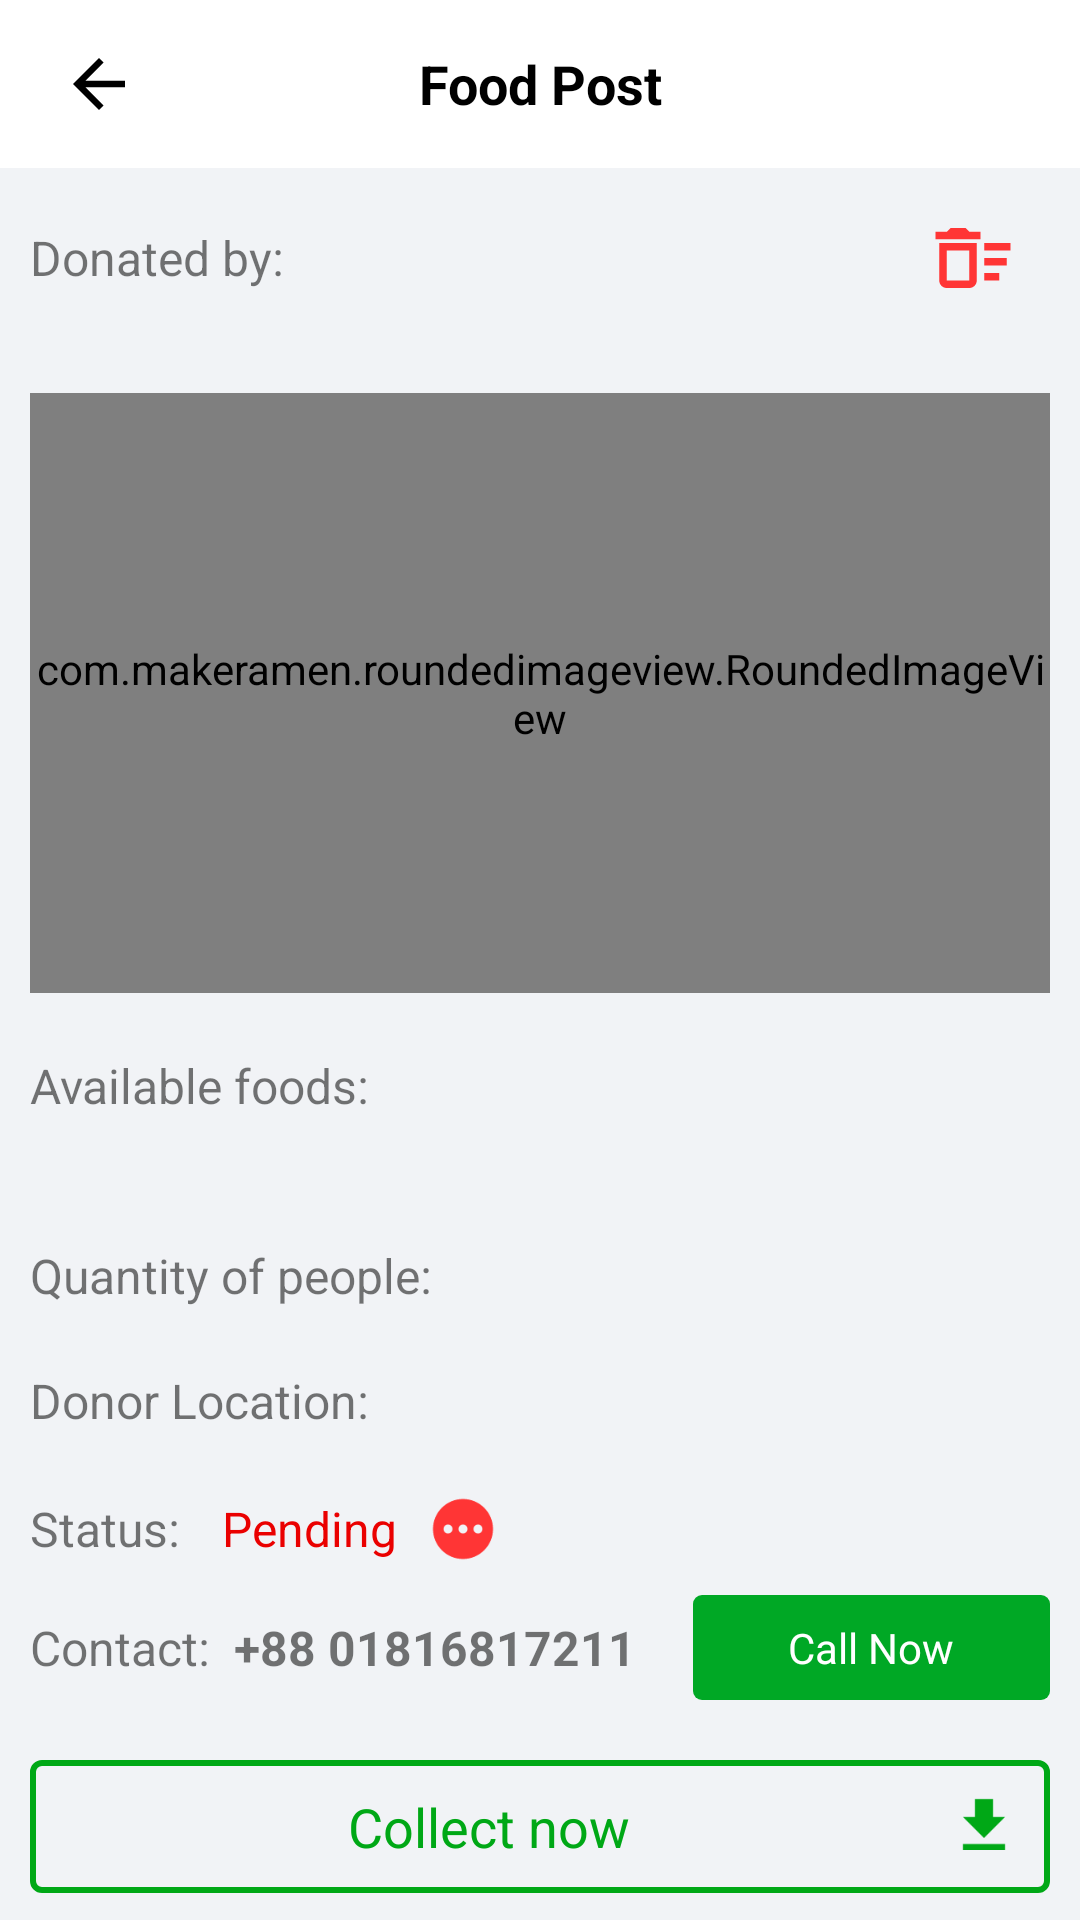

Locate icon controls on the screen. Image size 1080w x 1920h, boxes as detection(x1, y1, x2, y2).
arrow back: detection(73, 58, 125, 110)
delete sweep: detection(935, 228, 1011, 288)
